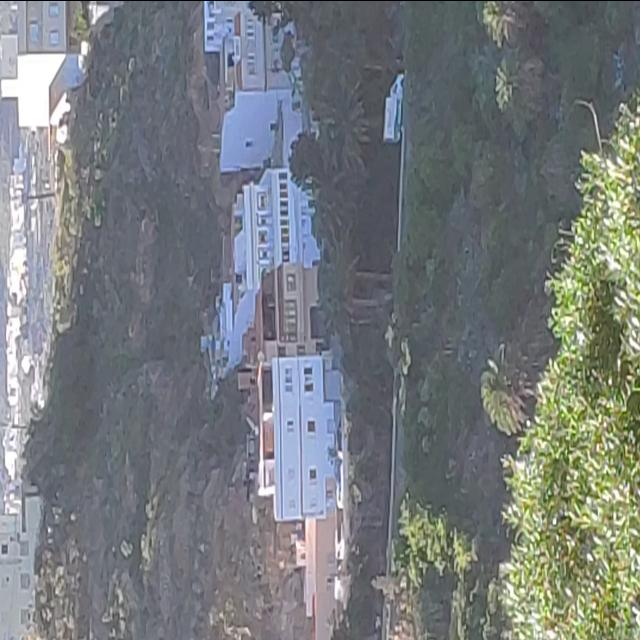Palm-Trees: (478, 341, 545, 428)
